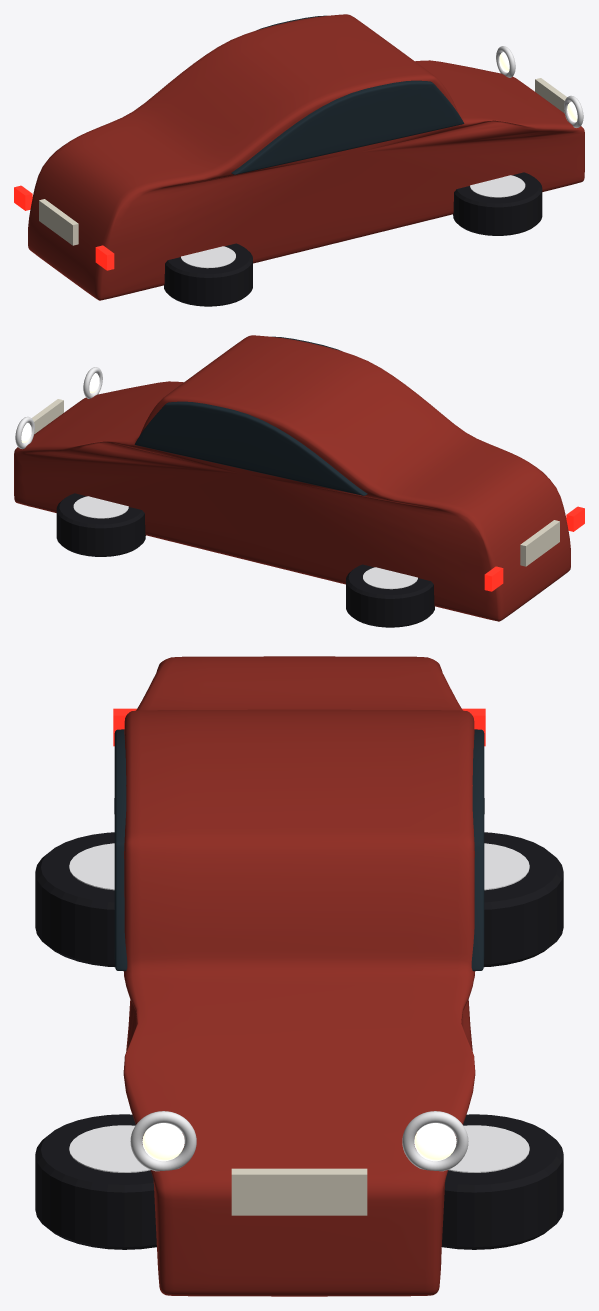
The model's file is t1_volksbeagle.glb.
The picture shows the model from 3 angles, top to bottom: view 1: azimuth 30°, elevation 25°; view 2: azimuth 150°, elevation 25°; view 3: azimuth 270°, elevation 25°; orthographic projection. The views are drawn at different scales.
Visible parts, largest first — view 1: paint_00, glass_00, tyre_06, tyre_04, wall_01, chrome_08, chrome_06, wall_00, tail_00; view 2: paint_00, glass_00, tyre_07, tyre_05, wall_01, chrome_09, chrome_07, wall_00, tail_01; view 3: paint_00, tyre_07, tyre_06, tyre_04, tyre_05, wall_00, glass_00, chrome_08, chrome_09, chrome_00, chrome_01, chrome_06 (+3 smaller).
Boxes of the visible parts, x1,y1,x2,y2 form: paint_00: [28, 14, 584, 300]; glass_00: [231, 15, 464, 174]; tyre_06: [453, 172, 542, 235]; tyre_04: [164, 243, 252, 306]; wall_01: [39, 199, 78, 245]; chrome_08: [470, 175, 525, 197]; chrome_06: [181, 246, 235, 268]; wall_00: [535, 78, 566, 113]; tail_00: [95, 245, 114, 270]; paint_00: [14, 335, 570, 621]; glass_00: [134, 336, 367, 495]; tyre_07: [56, 493, 145, 556]; tyre_05: [346, 564, 434, 627]; wall_01: [520, 520, 559, 566]; chrome_09: [73, 496, 128, 518]; chrome_07: [363, 567, 417, 589]; wall_00: [32, 399, 63, 433]; tail_01: [484, 566, 503, 591]; paint_00: [123, 656, 475, 1296]; tyre_07: [441, 1114, 563, 1249]; tyre_06: [35, 1114, 156, 1249]; tyre_04: [35, 832, 114, 967]; tyre_05: [484, 832, 563, 967]; wall_00: [231, 1168, 367, 1215]; glass_00: [114, 729, 484, 971]; chrome_08: [69, 1125, 150, 1172]; chrome_09: [448, 1125, 529, 1172]; chrome_00: [130, 1111, 196, 1171]; chrome_01: [402, 1111, 468, 1171]; chrome_06: [69, 843, 114, 890].
Size of the model in its own units: 10.24 by 3.21 by 4.67.
